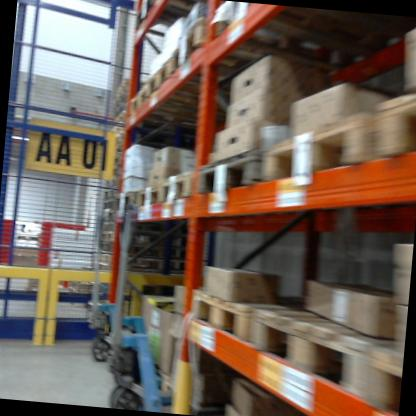pallet: (245, 303, 381, 416), (163, 14, 301, 100), (180, 271, 328, 350), (259, 99, 382, 191), (120, 74, 255, 137), (361, 63, 416, 168), (192, 132, 260, 215), (150, 61, 241, 116), (362, 323, 405, 416), (106, 142, 150, 217), (159, 155, 197, 209), (131, 171, 161, 214), (110, 71, 143, 102), (108, 130, 151, 146), (107, 93, 134, 118), (109, 113, 131, 131), (95, 239, 117, 255), (99, 229, 119, 246), (97, 196, 117, 213), (96, 212, 122, 225), (97, 223, 123, 235), (105, 156, 129, 168), (105, 166, 124, 180), (101, 187, 120, 200), (97, 254, 117, 265), (102, 179, 123, 189)
pallet_truck: (99, 203, 196, 411), (102, 220, 172, 376), (78, 208, 131, 374)
